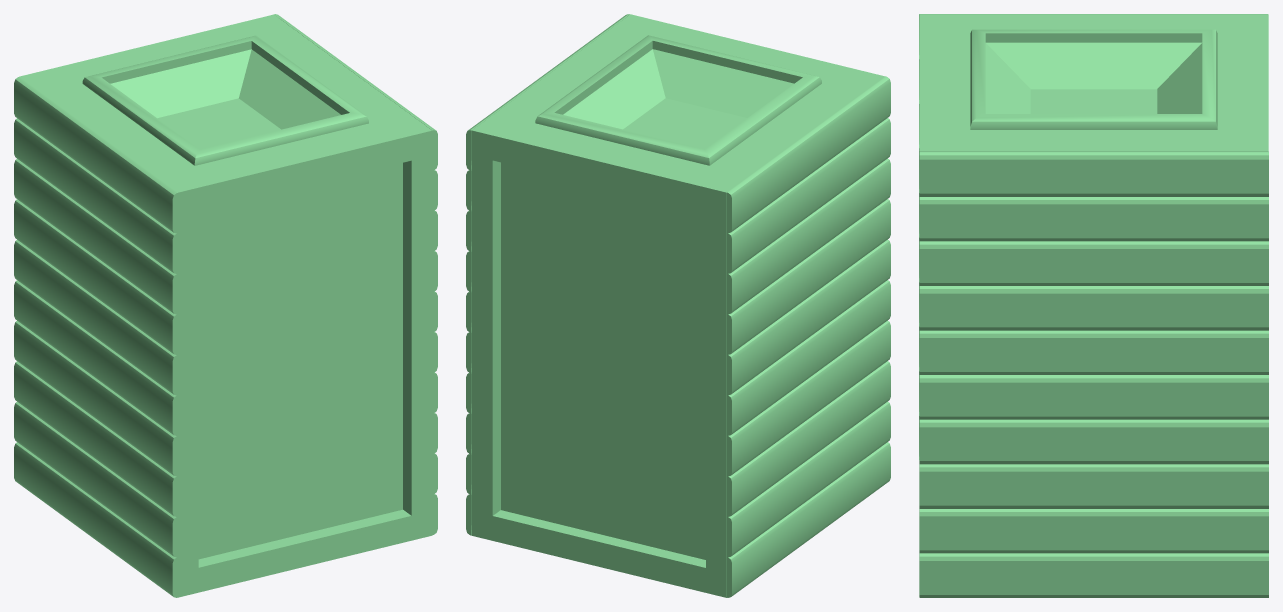
Rendered from SM_Bin.fbx.
3 renders of one model, left to right at view 1: azimuth 30°, elevation 25°; view 2: azimuth 150°, elevation 25°; view 3: azimuth 270°, elevation 25°, orthographic. The views are drawn at different scales.
Visible parts, largest first — view 1: Cube.005, Cube.006, Cube.007; view 2: Cube.005, Cube.006, Cube.007; view 3: Cube.007, Cube.005, Cube.006.
Boxes of the visible parts, x1=… form: Cube.005: x1=19, y1=14, x2=432, y2=597; Cube.006: x1=14, y1=76, x2=178, y2=597; Cube.007: x1=274, y1=14, x2=437, y2=535; Cube.005: x1=472, y1=14, x2=884, y2=597; Cube.006: x1=727, y1=76, x2=890, y2=597; Cube.007: x1=466, y1=14, x2=629, y2=535; Cube.007: x1=919, y1=151, x2=1268, y2=597; Cube.005: x1=919, y1=14, x2=1268, y2=596; Cube.006: x1=919, y1=14, x2=1268, y2=459.
Bounding box in the file's own units: 79.64 × 118 × 82.58.
